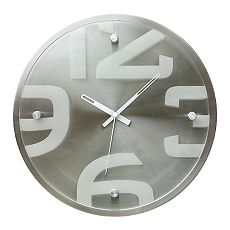clock: (19, 19, 212, 213)
